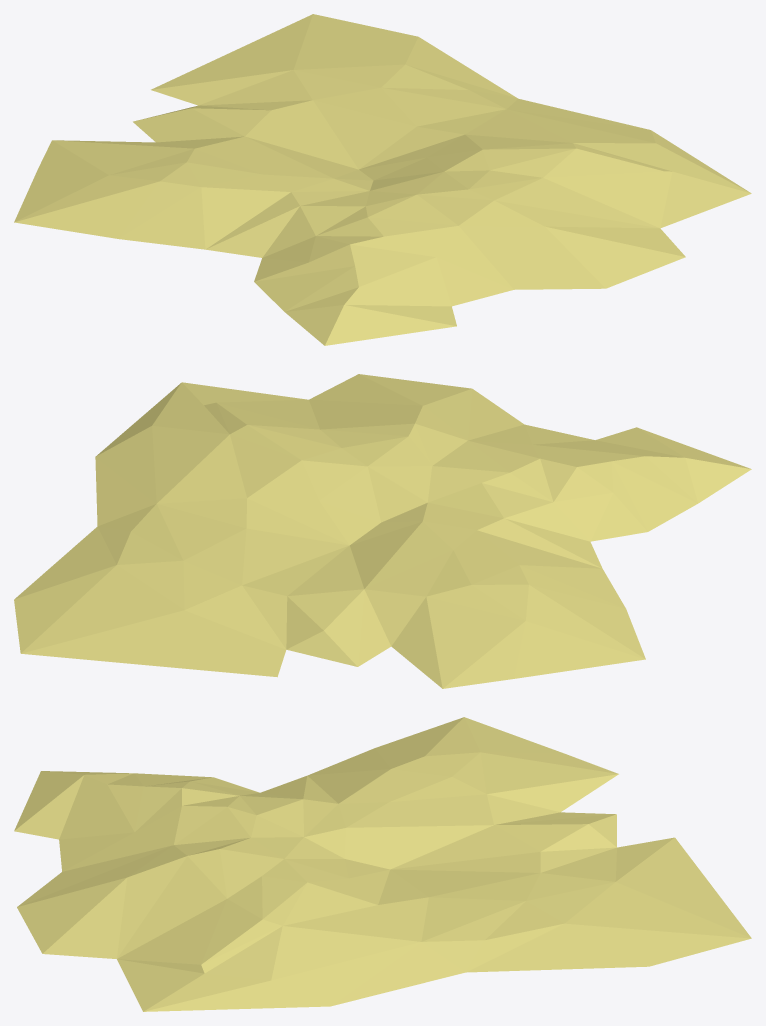
The model's file is Land_3.fbx.
3 views of the same model, one above another, from view 1: azimuth 30°, elevation 25°; view 2: azimuth 150°, elevation 25°; view 3: azimuth 270°, elevation 25° (orthographic). The views are drawn at different scales.
Visible parts, largest first — view 1: Land_3; view 2: Land_3; view 3: Land_3.
Part boxes in pixels (x1,y1,x2,y2): Land_3: (14, 14, 751, 345); Land_3: (14, 374, 751, 688); Land_3: (14, 717, 751, 1011).
Size of the model in its own units: 771 by 46.97 by 816.
1 material, 1 textured.
